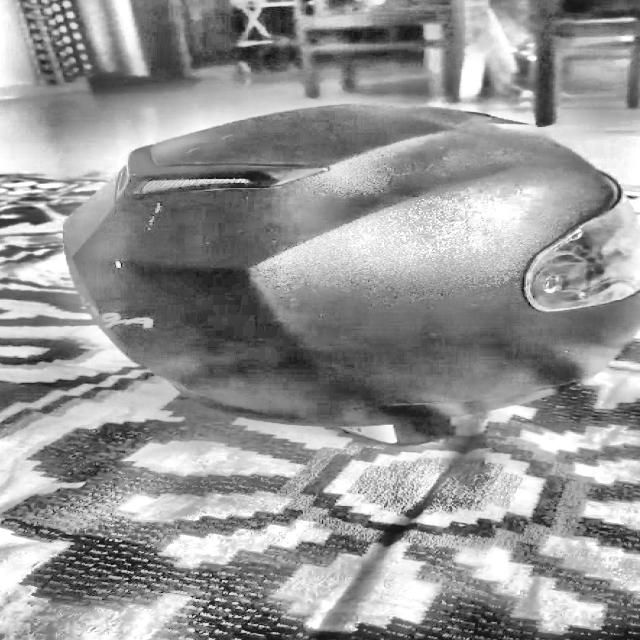Helmet: (54, 100, 640, 434)
